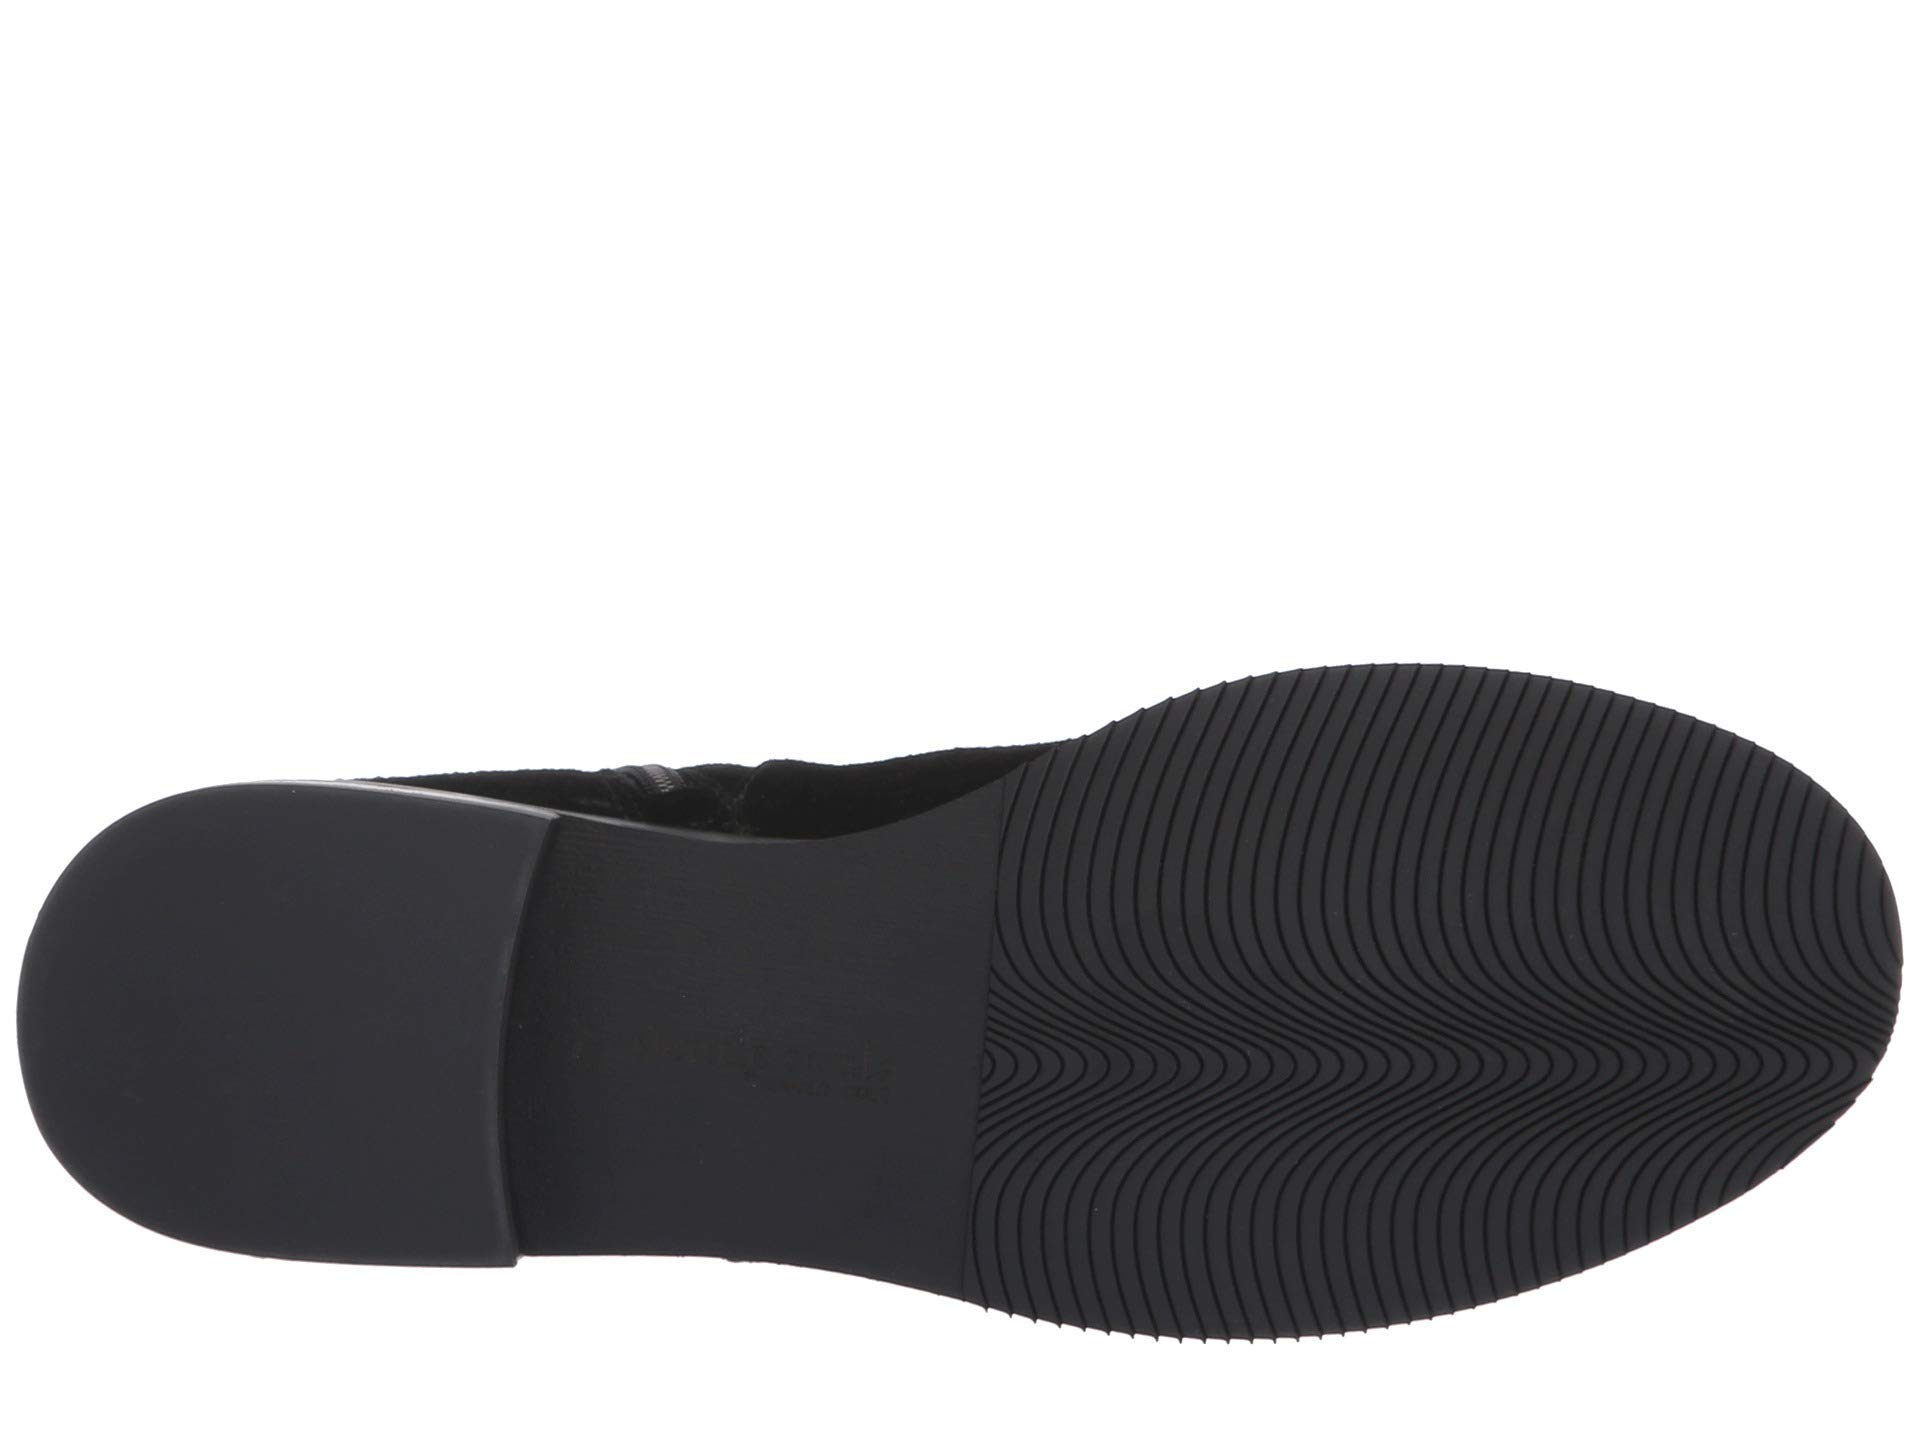chevron: (1076, 731, 1666, 1249)
